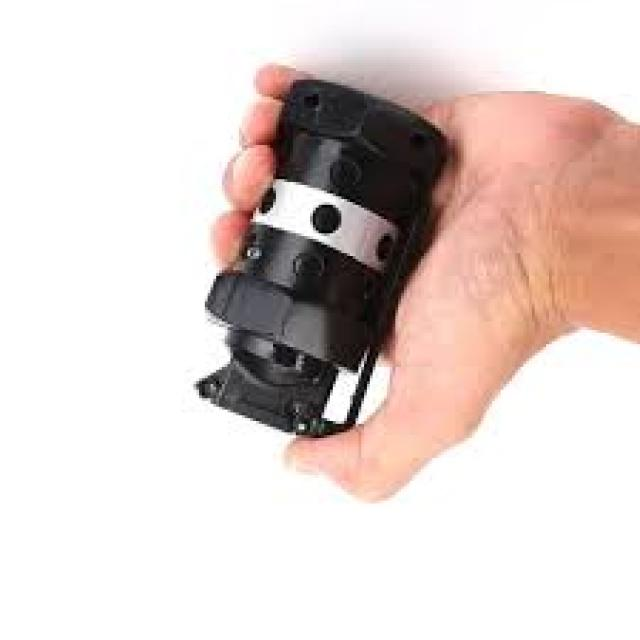grenade: (191, 73, 457, 444)
